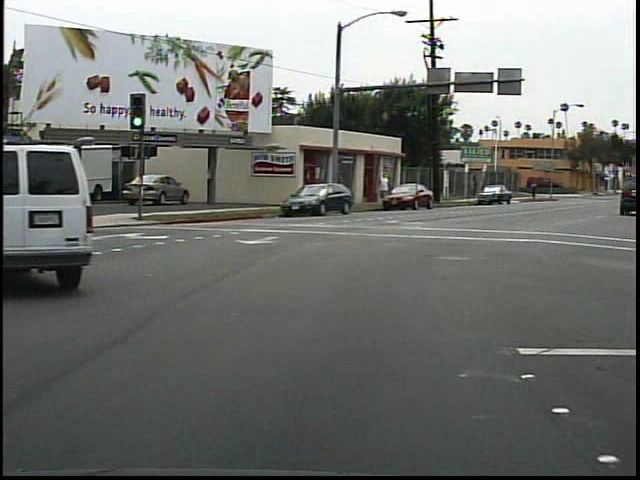person: (373, 167, 396, 210), (527, 178, 540, 202)
